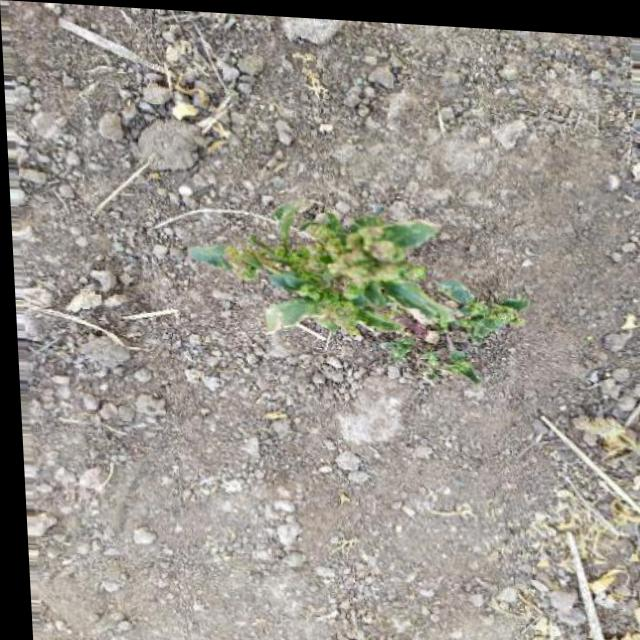weed: (185, 181, 549, 422)
